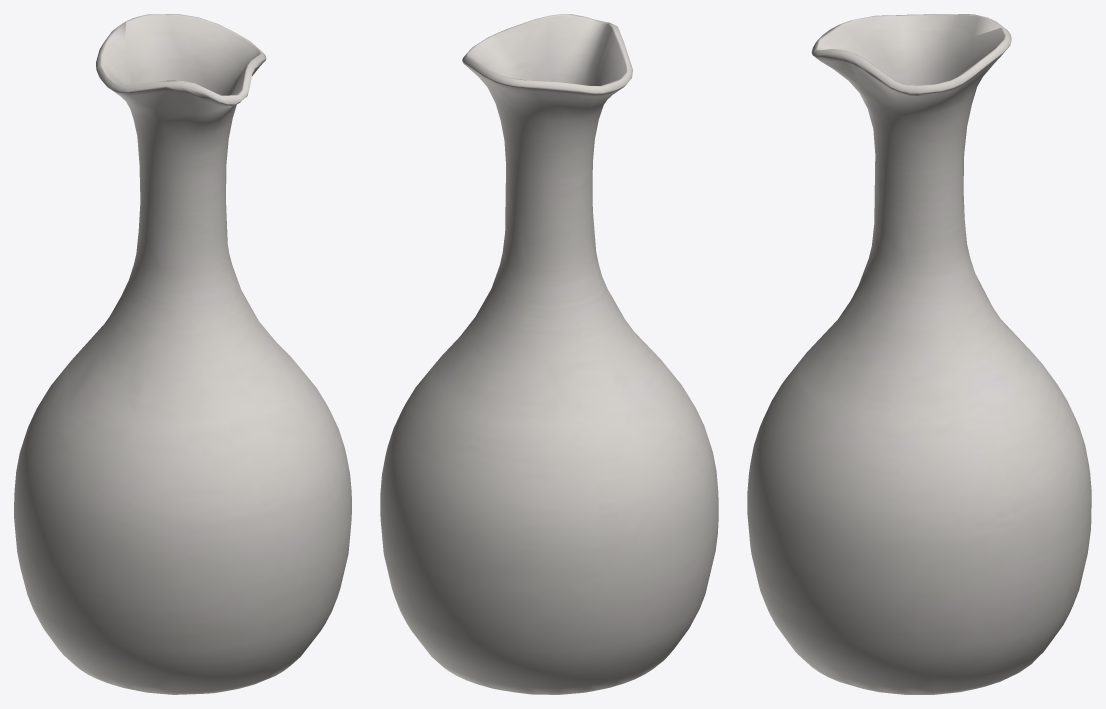
The model's file is ceramic_vase_01.glb.
3 views of the same model, side by side, from view 1: azimuth 30°, elevation 25°; view 2: azimuth 150°, elevation 25°; view 3: azimuth 270°, elevation 25° (orthographic).
Visible parts, largest first — view 1: ceramic_vase_01; view 2: ceramic_vase_01; view 3: ceramic_vase_01.
Part boxes in pixels (x1,y1,x2,y2): ceramic_vase_01: (14, 14, 351, 694); ceramic_vase_01: (380, 14, 718, 694); ceramic_vase_01: (747, 14, 1091, 694).
Size of the model in its own units: 0.2036 by 0.4003 by 0.2035.
Materials: 1 (1 with a texture image).
